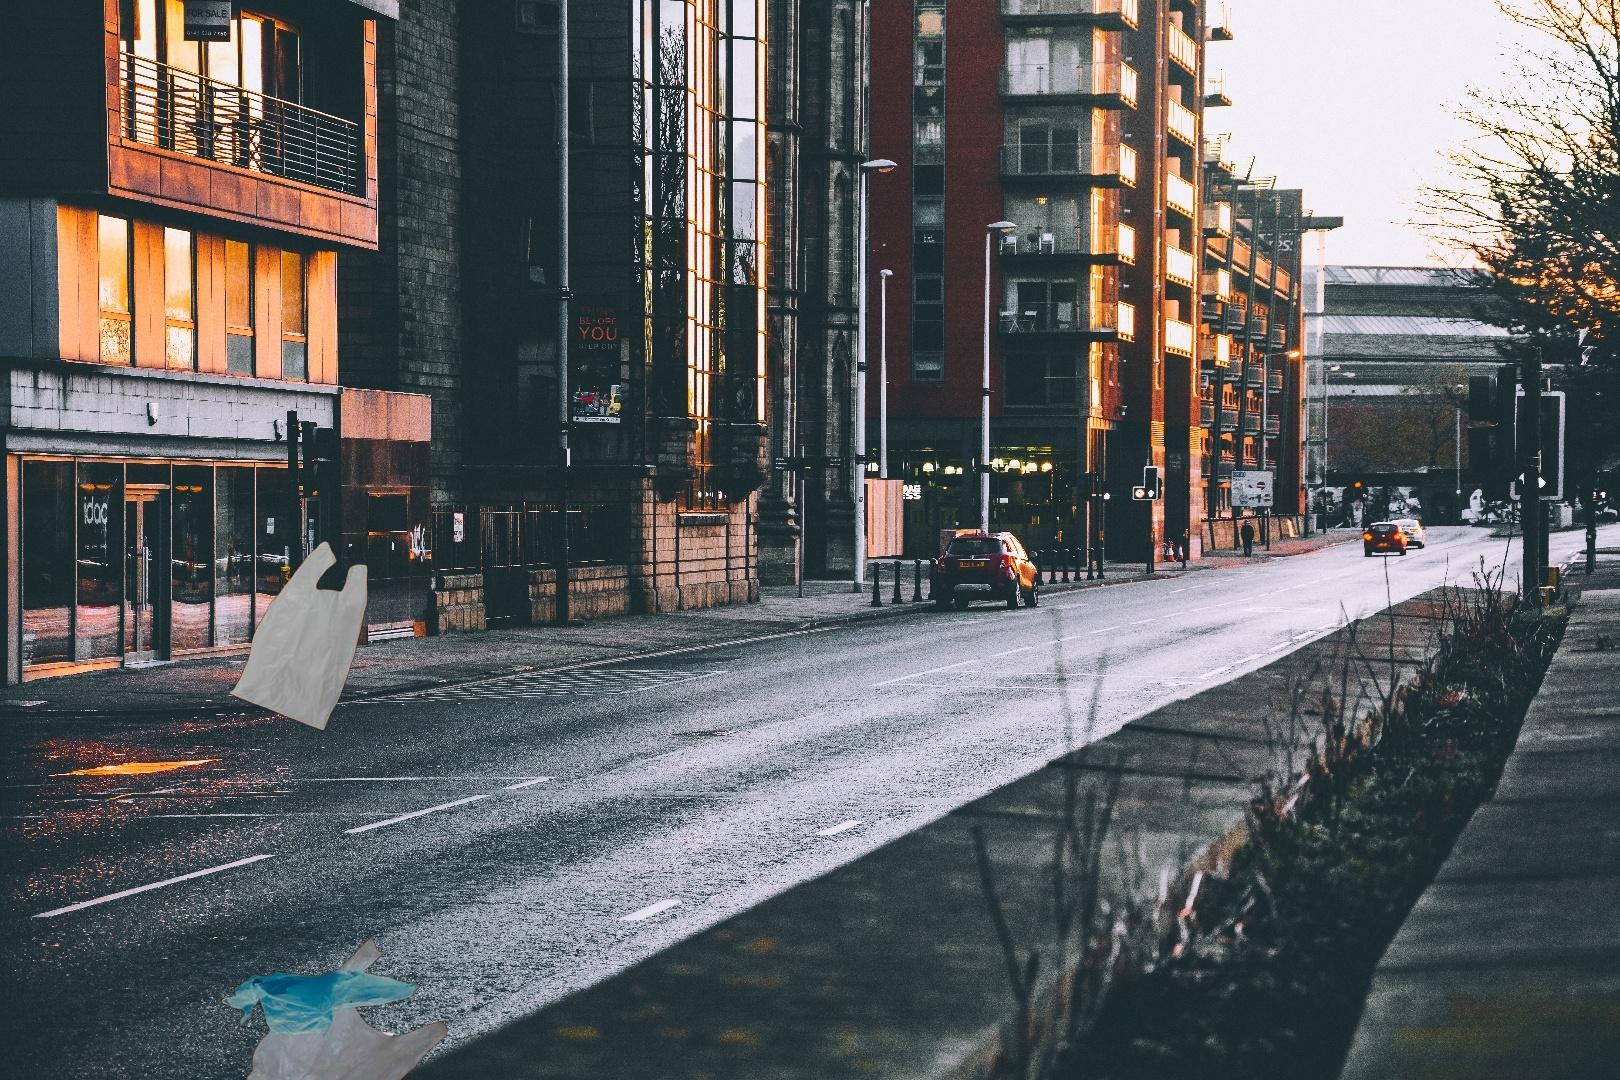plastic-bag: (218, 935, 450, 1080), (225, 539, 371, 733)
